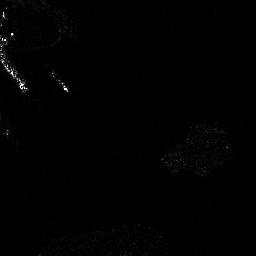ship: (49, 71, 69, 93)
